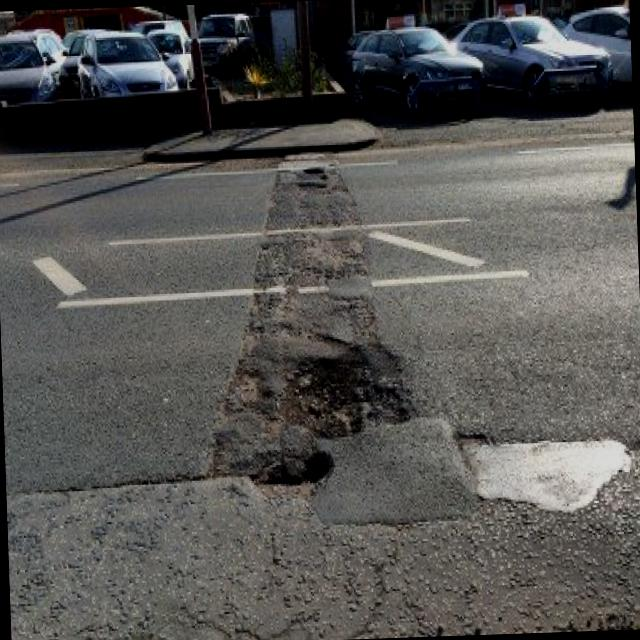bad-road: (195, 161, 422, 515)
